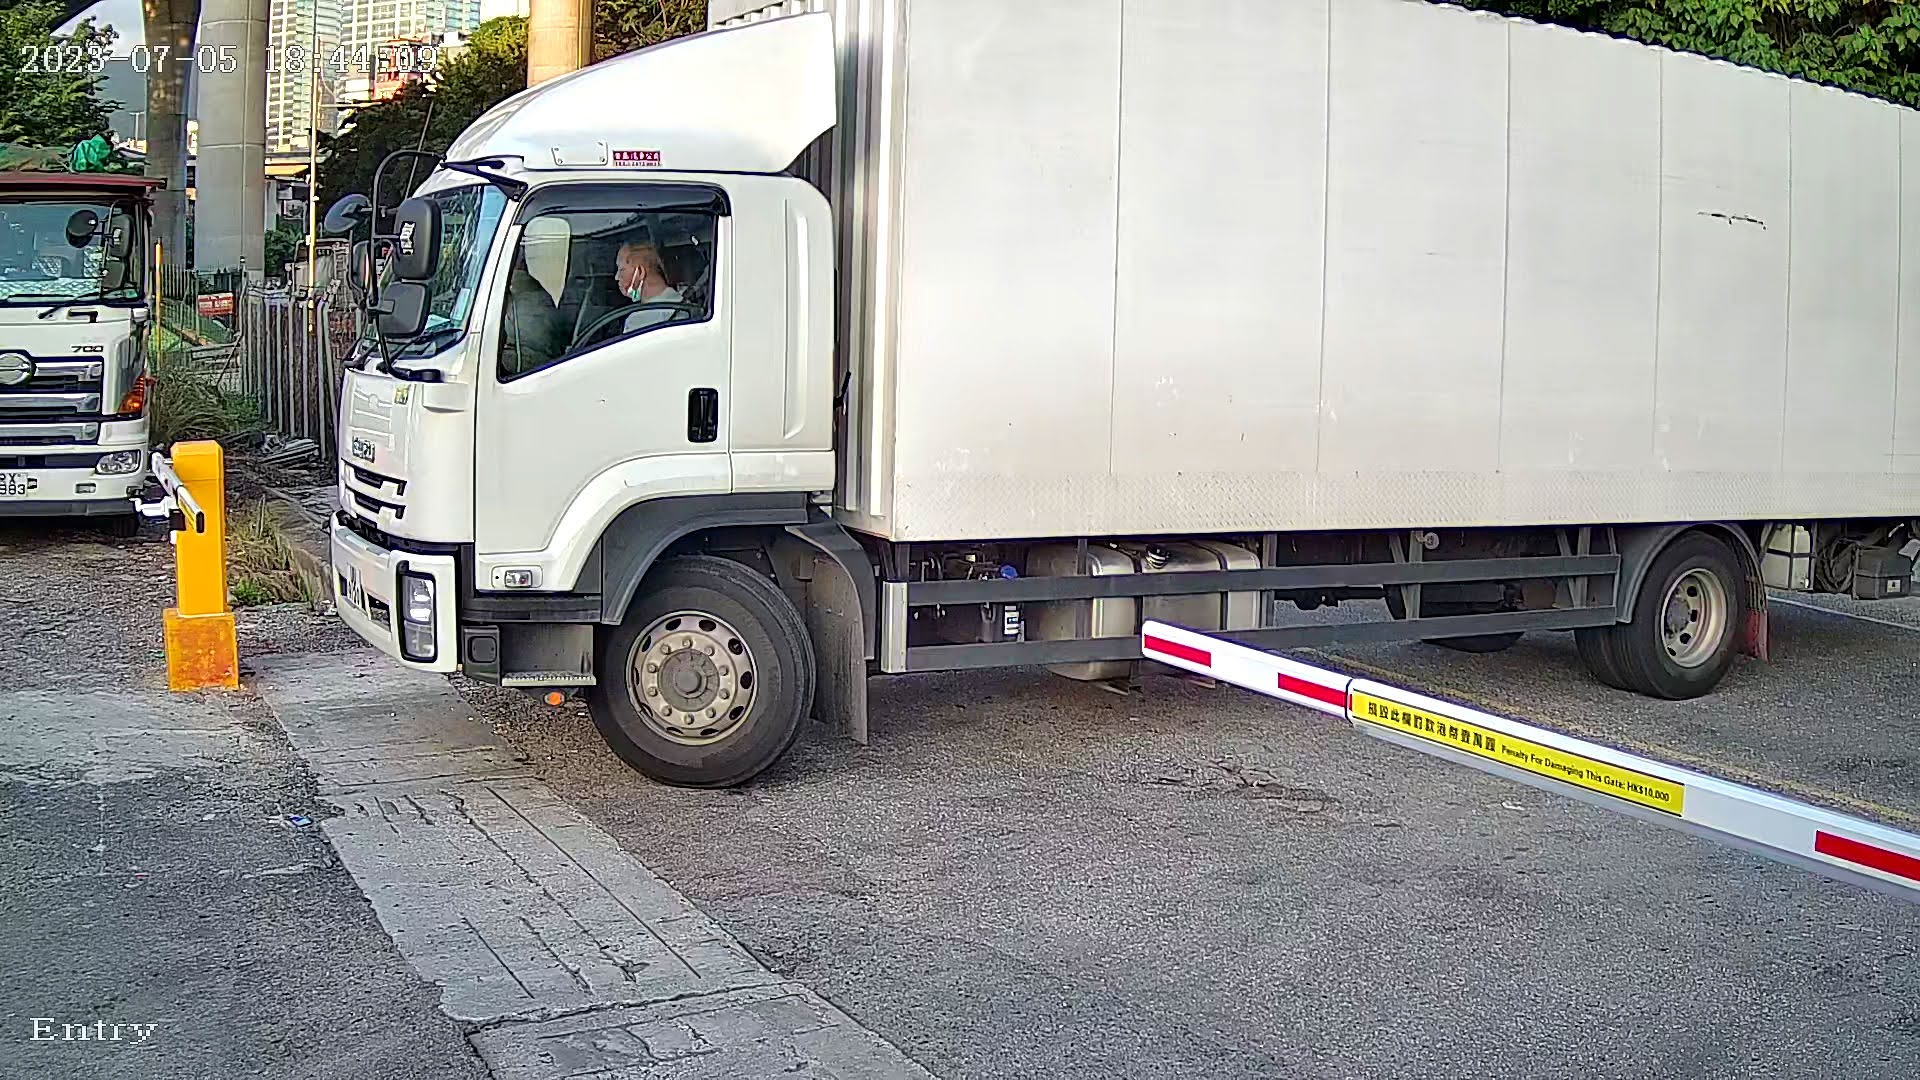truck: (272, 1, 1912, 791)
